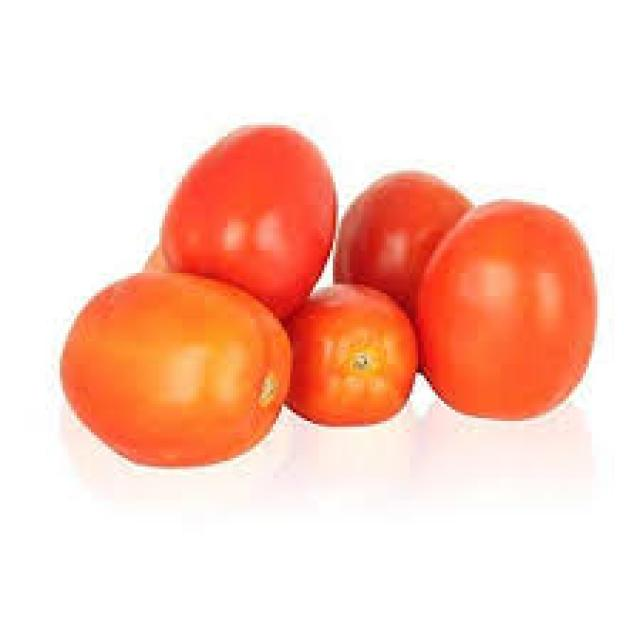Fresh_tomato: (77, 259, 285, 442), (434, 191, 584, 408), (172, 132, 324, 313), (280, 278, 412, 425), (358, 140, 470, 304)
